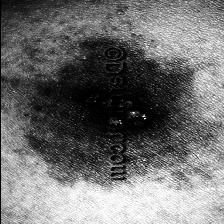Toxin: (133, 111, 155, 127), (82, 92, 100, 106)
